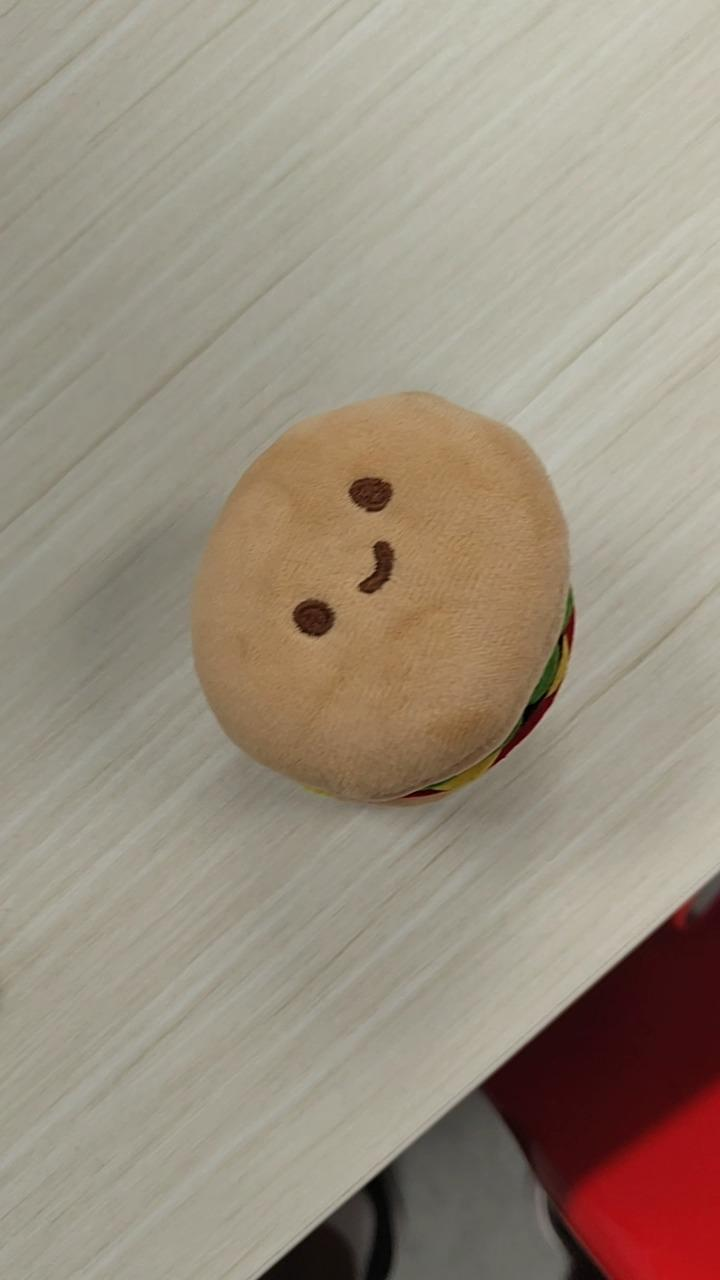hamburger: (188, 388, 576, 807)
